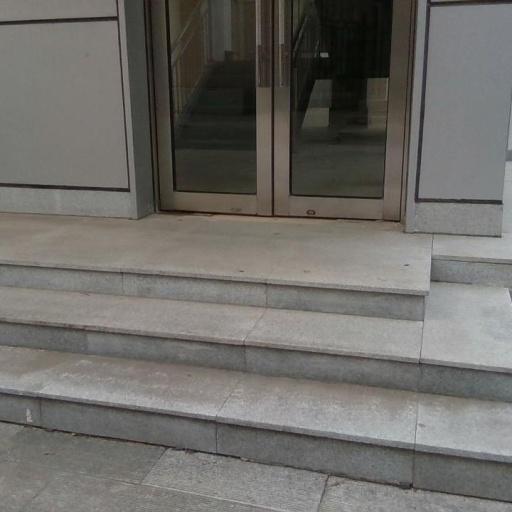Stairs: (0, 224, 512, 500)
